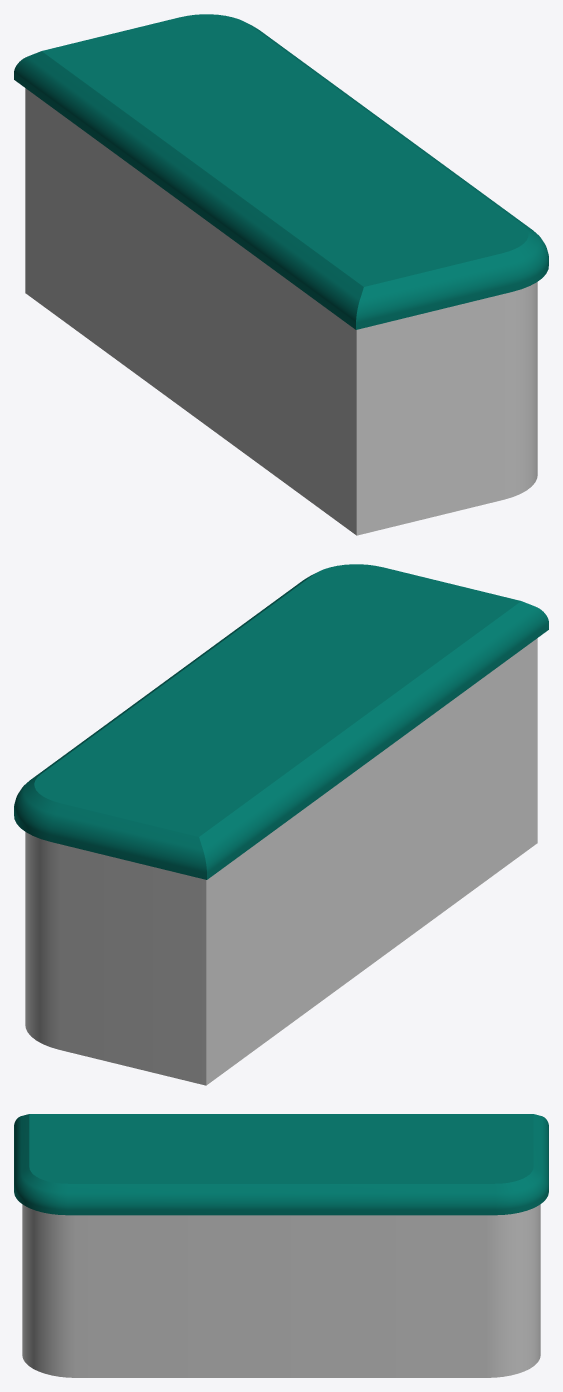
File: akvaryum1.fbx
3 renders of one model, top to bottom at view 1: azimuth 30°, elevation 25°; view 2: azimuth 150°, elevation 25°; view 3: azimuth 270°, elevation 25°, orthographic. The views are drawn at different scales.
Visible parts, largest first — view 1: Cube, Cube.003; view 2: Cube, Cube.003; view 3: Cube, Cube.003.
Boxes of the visible parts, left/top/right/bottom form: Cube: left=25, top=88, right=537, bottom=535; Cube.003: left=14, top=14, right=548, bottom=329; Cube: left=25, top=638, right=537, bottom=1085; Cube.003: left=14, top=564, right=548, bottom=879; Cube: left=22, top=1204, right=540, bottom=1377; Cube.003: left=14, top=1114, right=548, bottom=1215.
Size of the model in its own units: 212 by 225 by 574.
